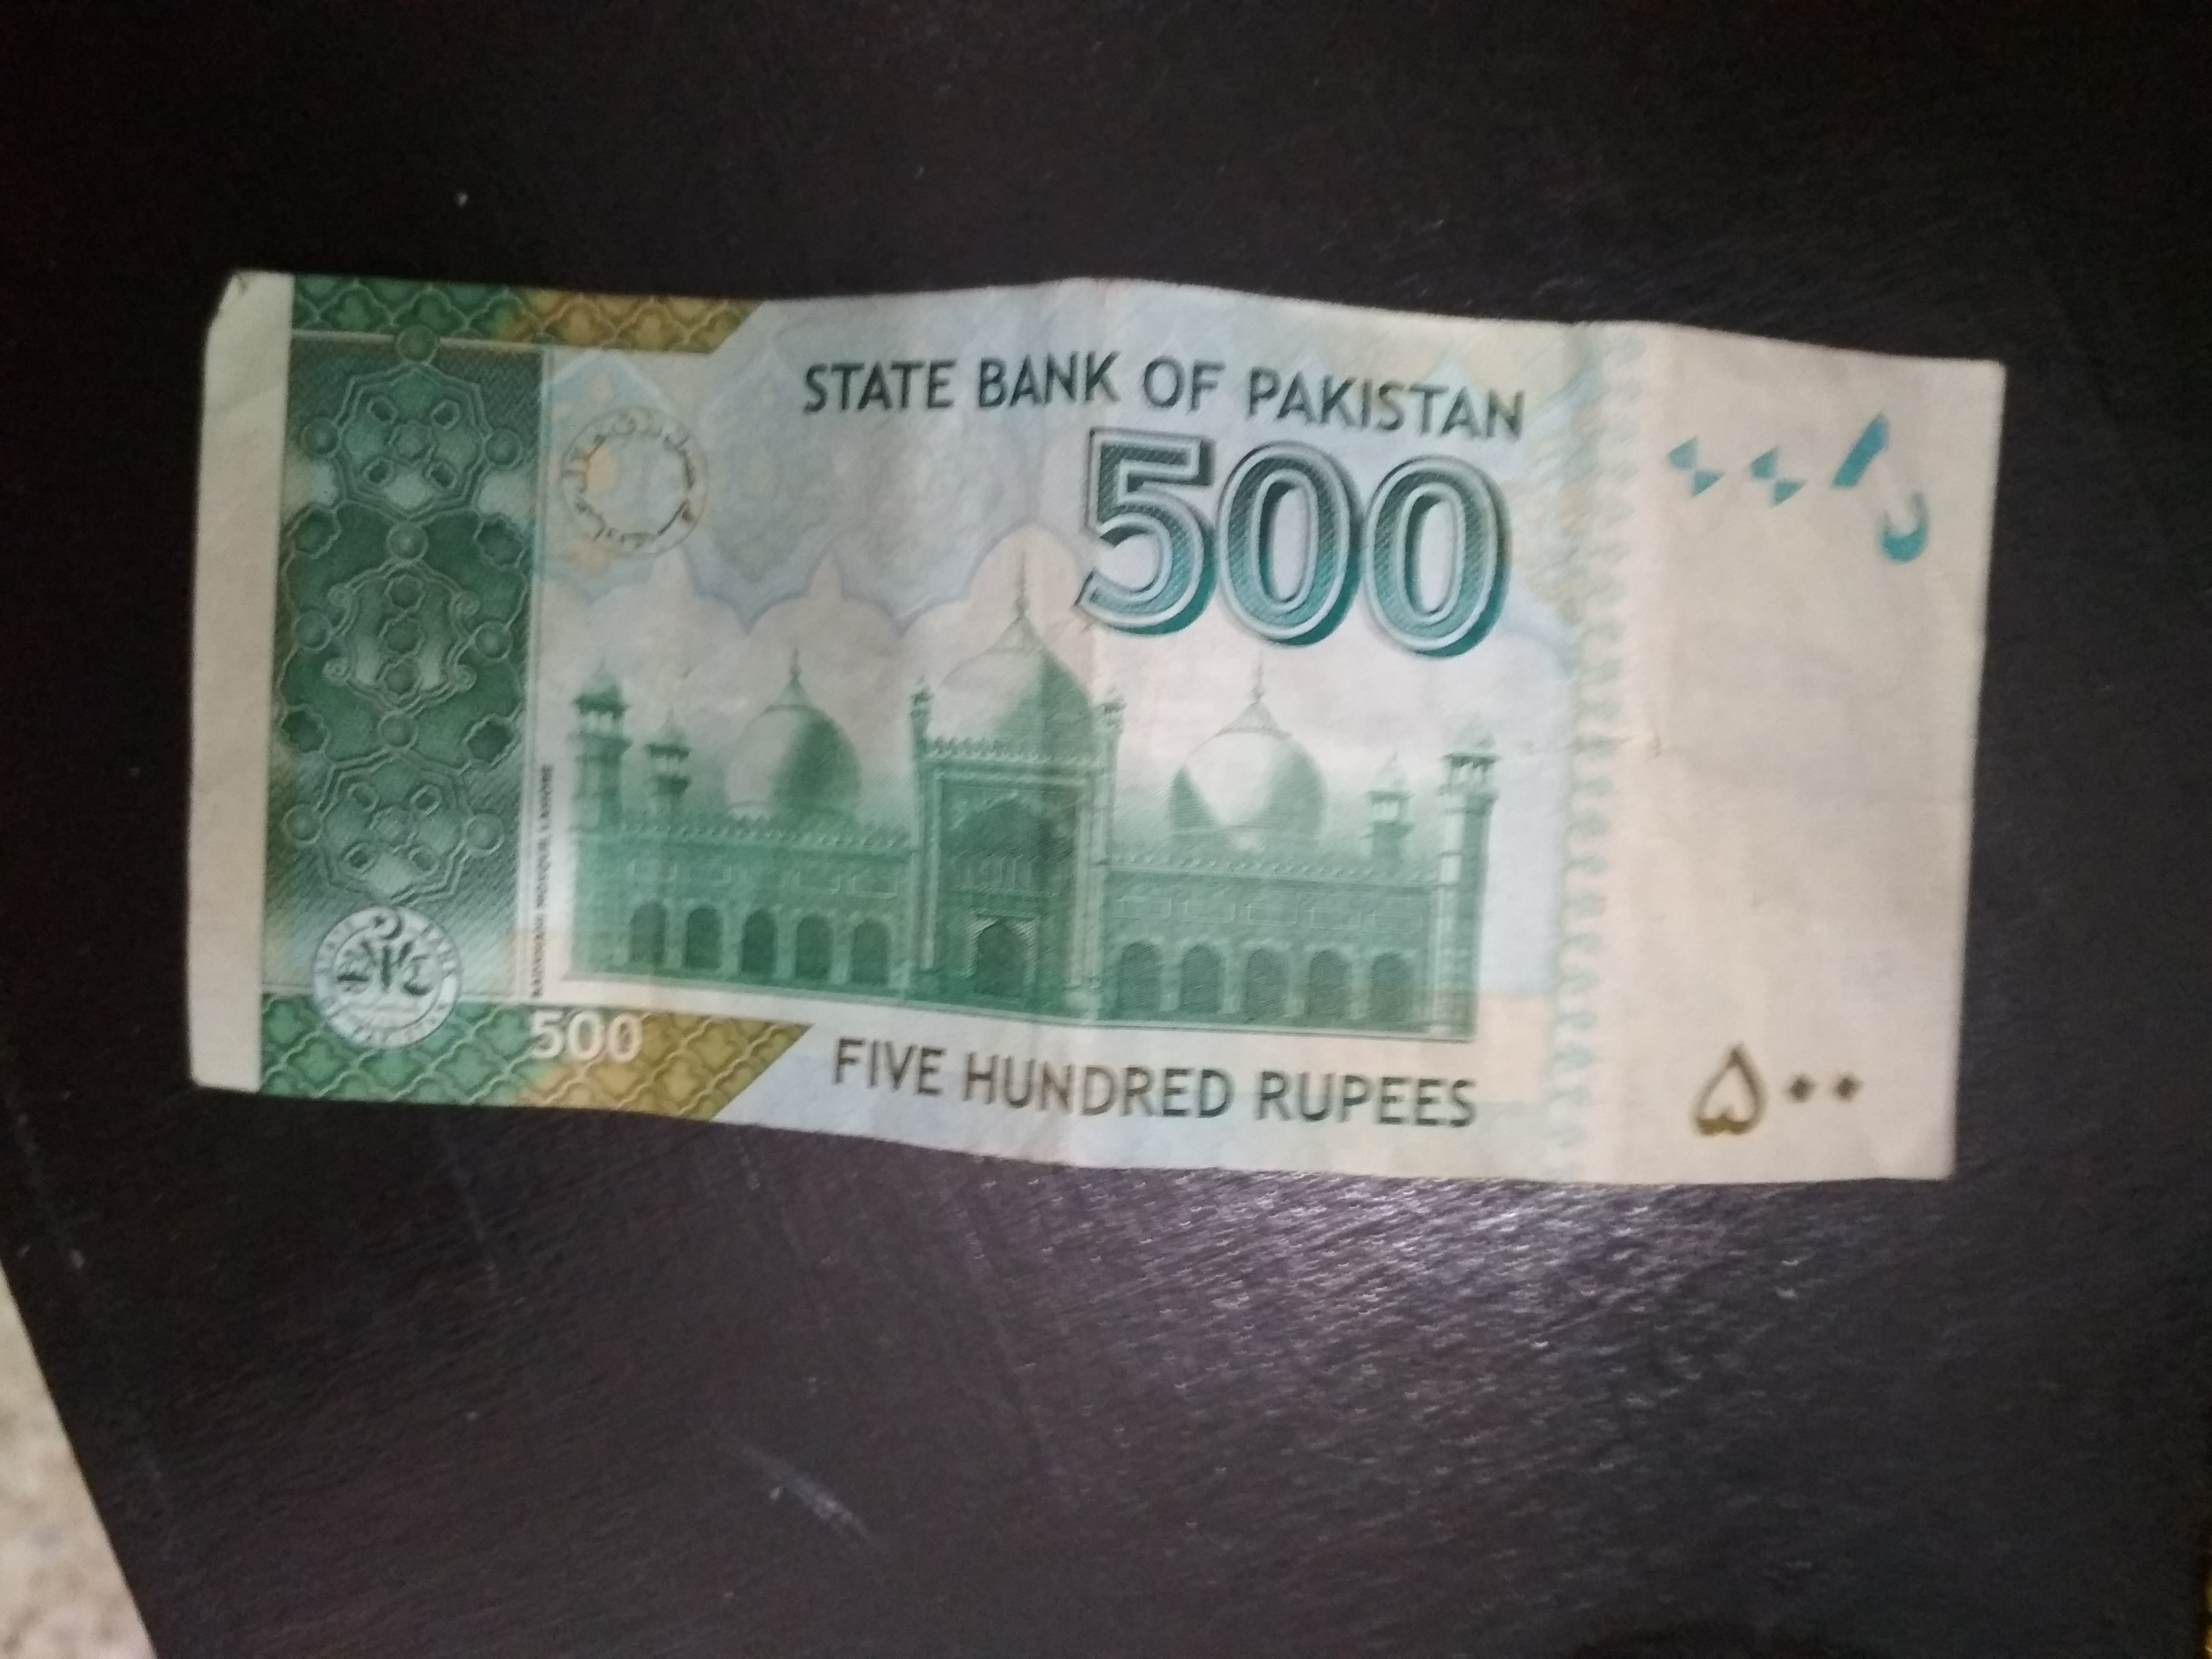500 rupee: (136, 204, 2013, 1204)
